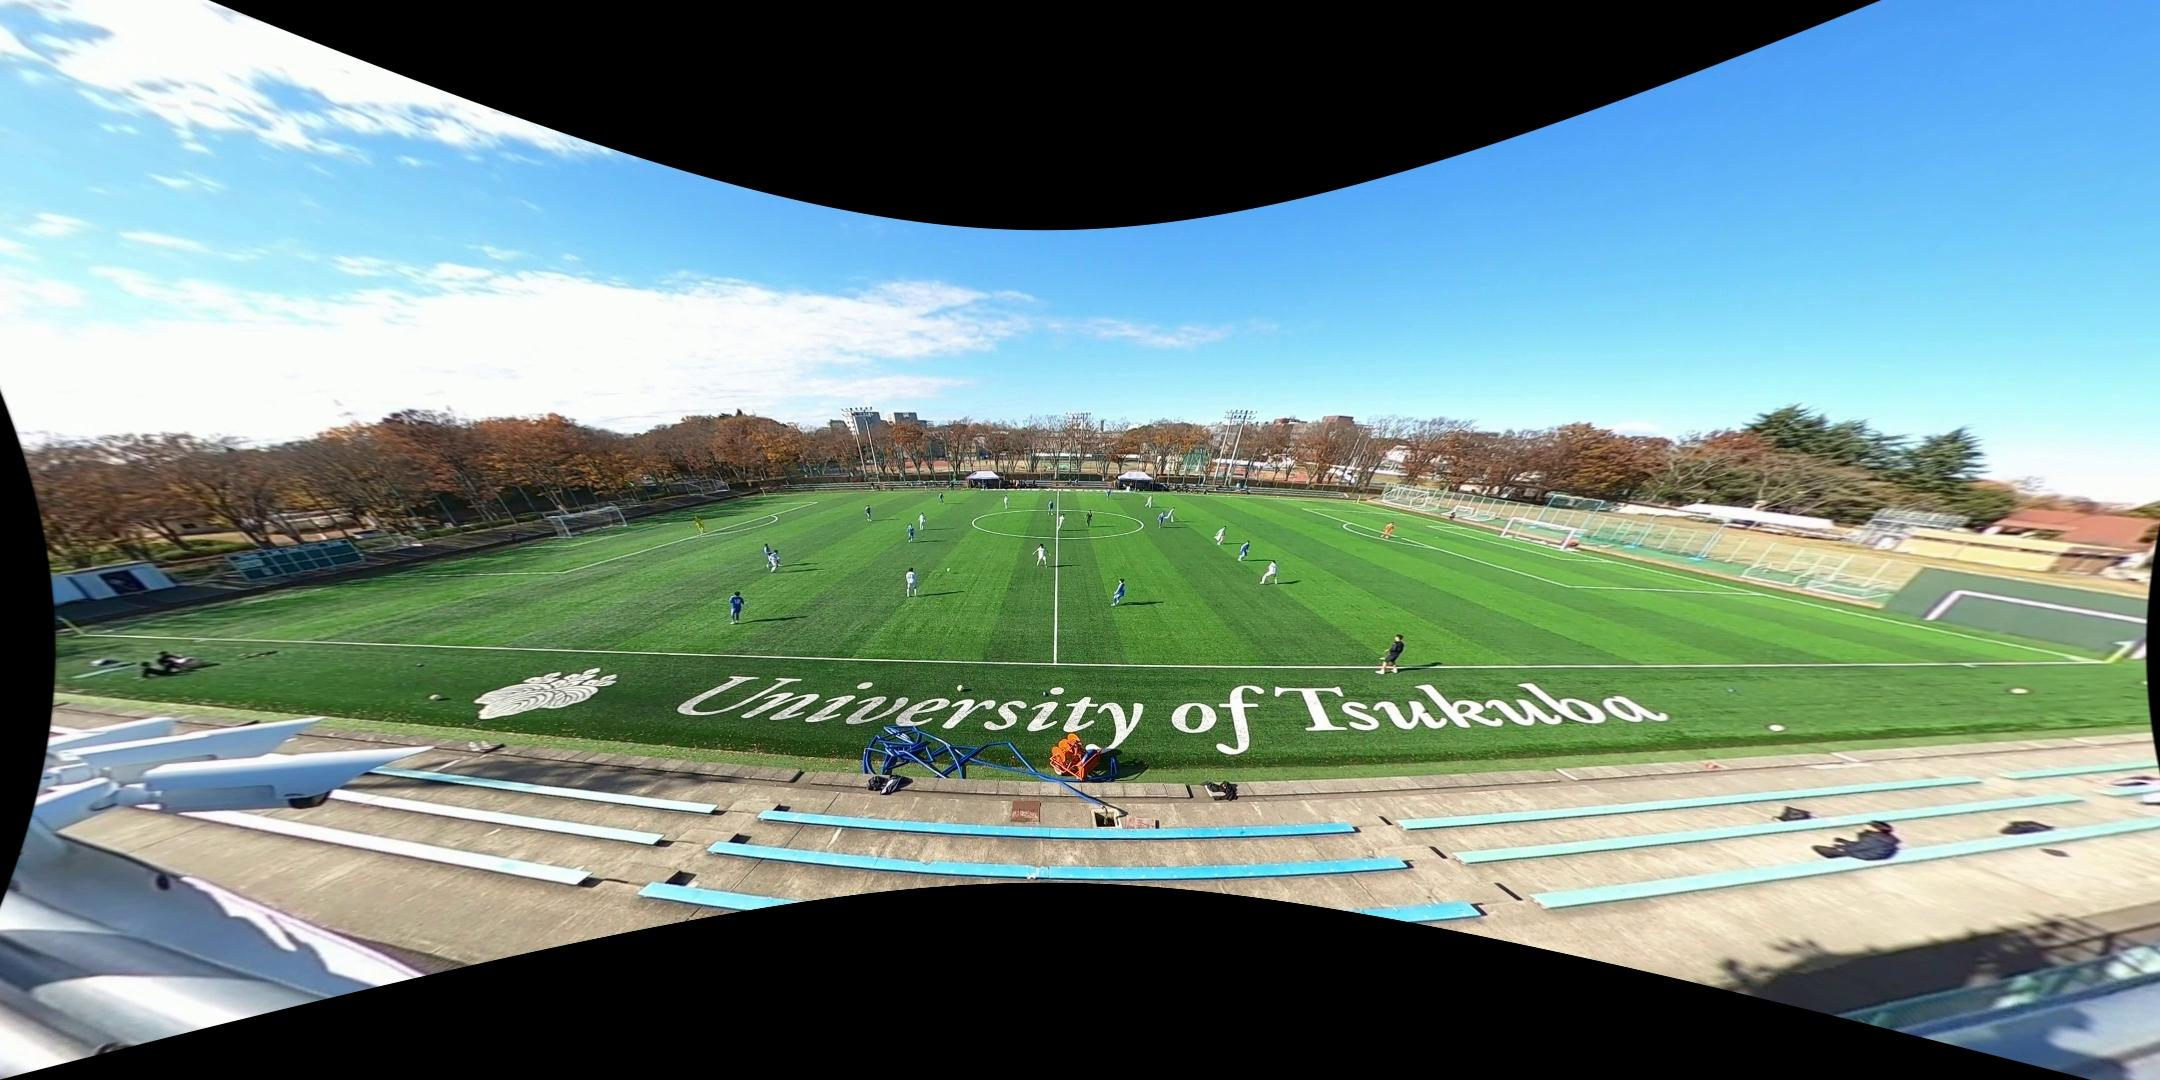person: (1375, 633, 1405, 675), (728, 590, 745, 625), (763, 543, 783, 568), (1259, 560, 1278, 585), (1032, 543, 1051, 568), (1111, 578, 1126, 606), (905, 566, 917, 598), (1379, 522, 1397, 538), (693, 514, 706, 536), (1239, 540, 1252, 561), (769, 549, 780, 573), (1215, 525, 1228, 545), (1163, 507, 1176, 522), (907, 523, 915, 543), (1084, 510, 1093, 527), (1057, 514, 1066, 531), (918, 512, 926, 531), (1144, 494, 1154, 509), (1157, 511, 1165, 529), (865, 504, 873, 522), (1047, 499, 1055, 516), (1003, 495, 1011, 509), (938, 492, 945, 505), (1106, 487, 1112, 500)
sports ball: (2007, 682, 2031, 698), (1766, 721, 1788, 735), (427, 692, 442, 702), (956, 683, 964, 693), (945, 567, 953, 572)
